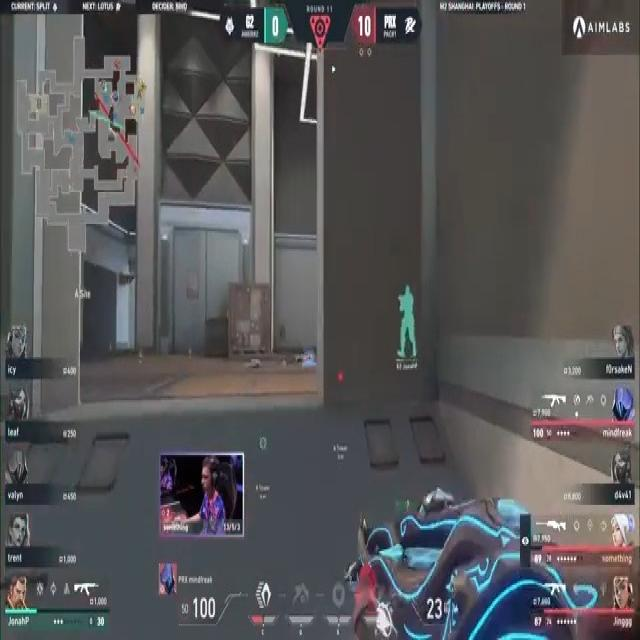ally behind wall: (396, 286, 420, 364)
